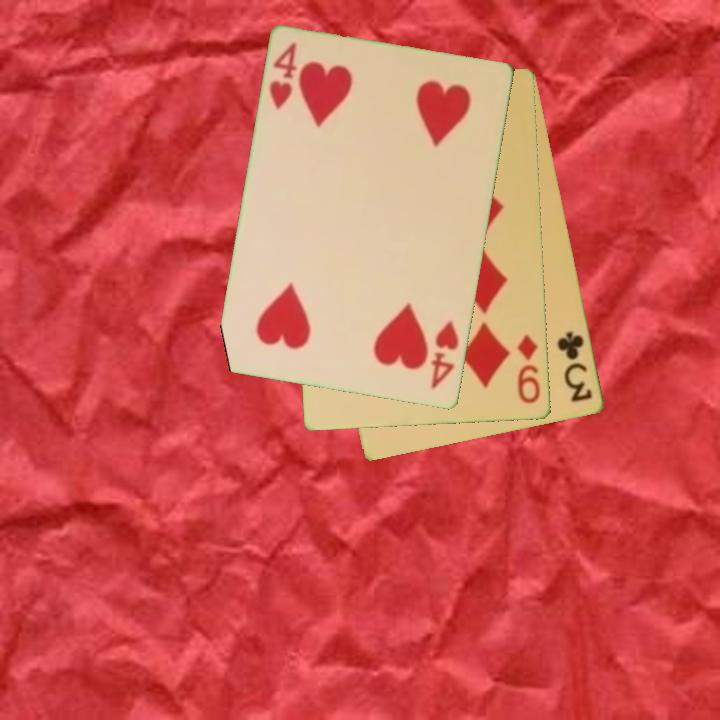3c: (554, 328, 596, 405)
4h: (266, 39, 301, 113), (428, 317, 462, 392)
9d: (514, 331, 544, 407)
